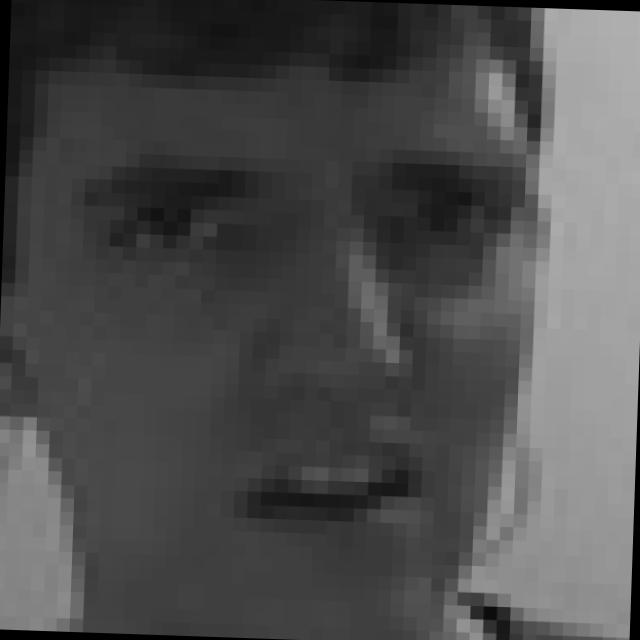disgust: (71, 130, 523, 563)
